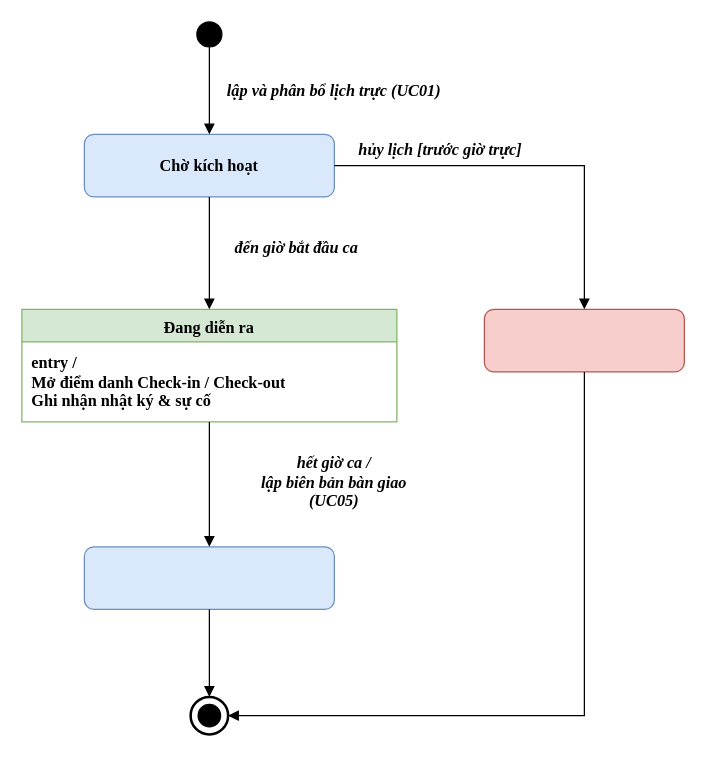
This 706x758 diagram has some shape labels left out. The shapes that lost their labels are listed below. From the top down, each one's centre as x and y in pixels, then its label:
At (583,340): "Đã hủy".
At (208,577): "Đã kết thúc".
